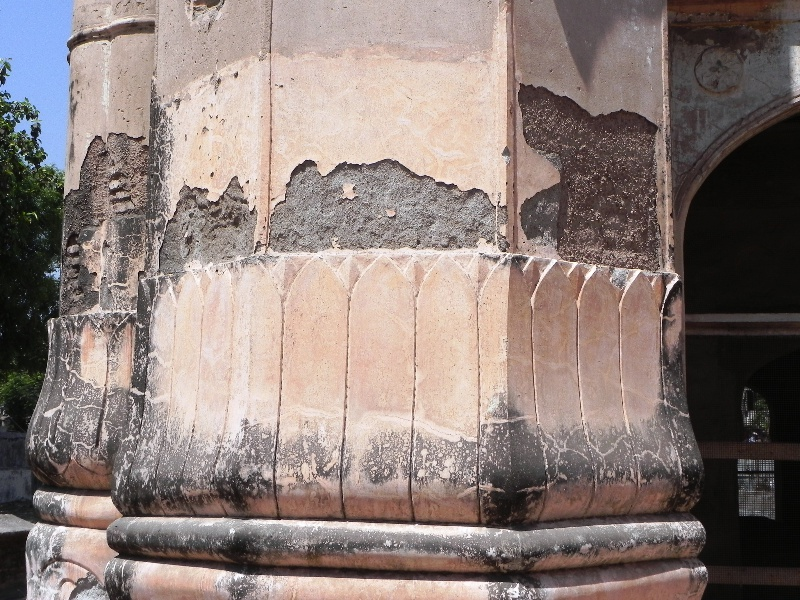Exposed Bricks: (105, 153, 133, 216), (65, 240, 79, 291)
Spalling: (515, 76, 663, 274), (266, 154, 502, 252), (163, 177, 257, 271)
